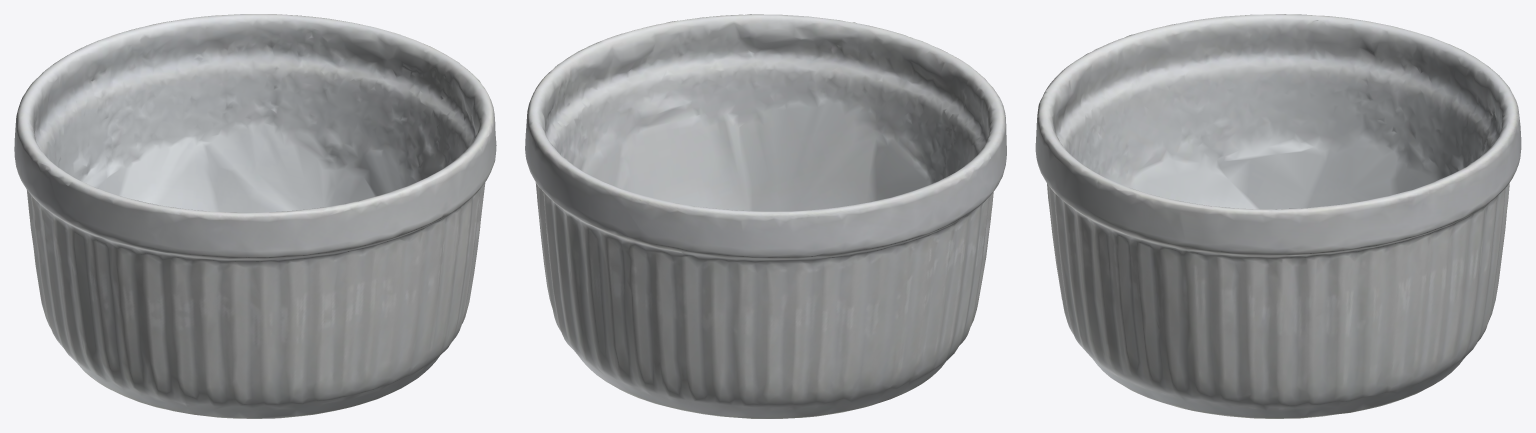
Rendered from Utana_5_Porcelain_Ramekin_Large.glb.
3 renders of one model, left to right at view 1: azimuth 30°, elevation 25°; view 2: azimuth 150°, elevation 25°; view 3: azimuth 270°, elevation 25°, orthographic.
Parts seen in each view (by area): view 1: Utana_5_Porcelain_Ramekin_Large; view 2: Utana_5_Porcelain_Ramekin_Large; view 3: Utana_5_Porcelain_Ramekin_Large.
Boxes of the visible parts, left/top/right/bottom form: Utana_5_Porcelain_Ramekin_Large: left=14, top=14, right=496, bottom=418; Utana_5_Porcelain_Ramekin_Large: left=525, top=14, right=1006, bottom=418; Utana_5_Porcelain_Ramekin_Large: left=1035, top=14, right=1521, bottom=418.
Bounding box in the file's own units: 0.1325 × 0.0696 × 0.1318.
1 material, 1 textured.
